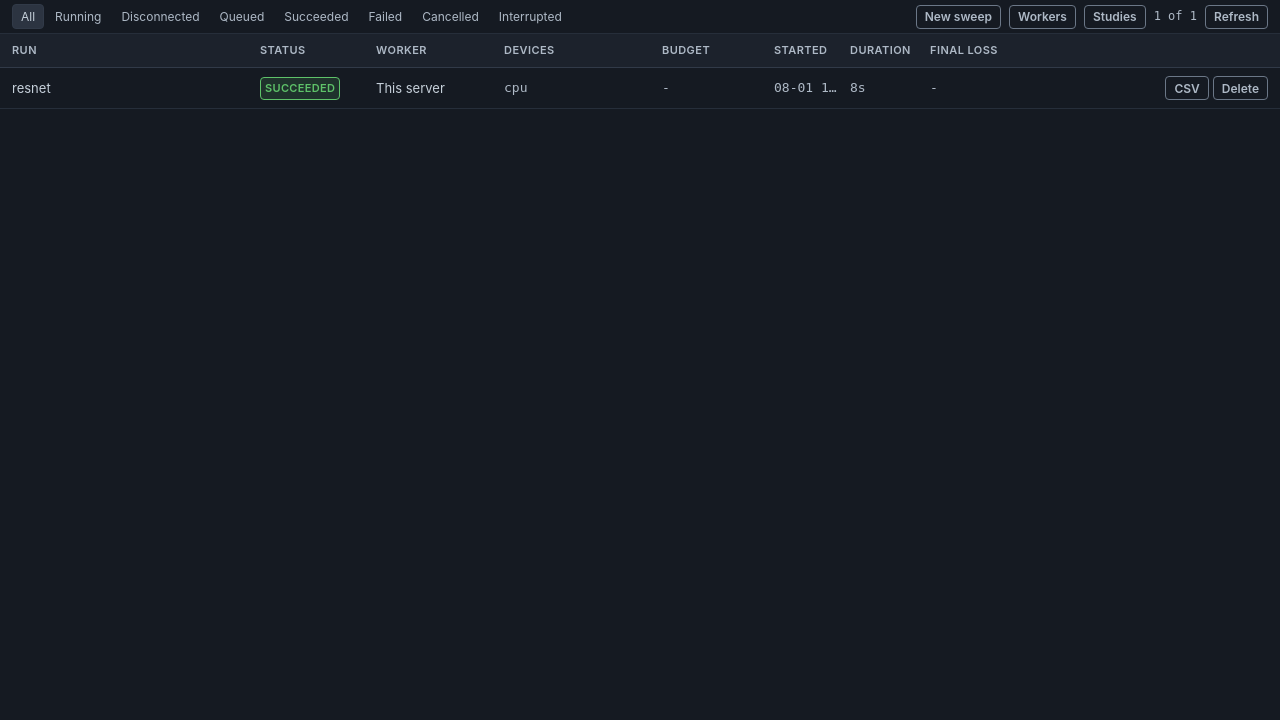
Test case: RunsPanel — detail CSV export › stays enabled when the metrics request failed and left the chart blank
Expected: the text "resnet" is shown, x1=12 y1=80 x2=51 y2=96
Step 1. Click the button with aria-label "resnet — Succeeded" → x=31, y=88, box x1=0 y1=68 x2=1279 y2=109
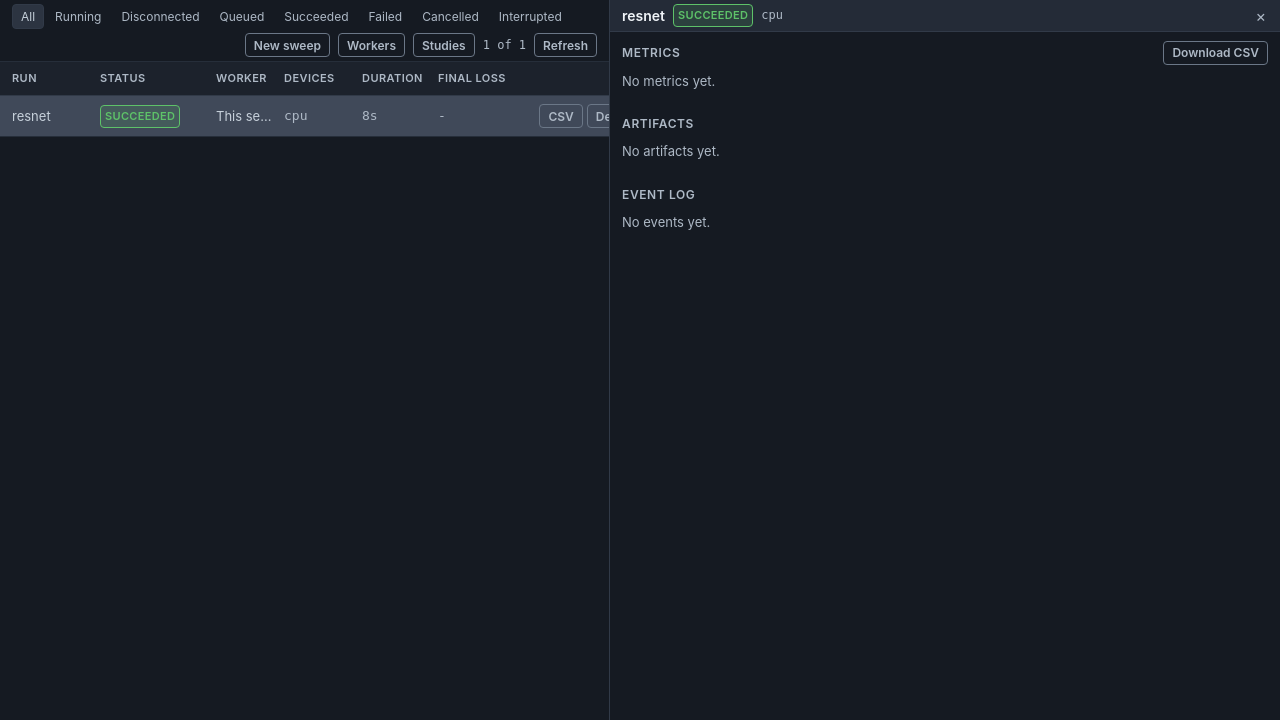
Expected: the text "No metrics yet." is shown, x1=622 y1=73 x2=715 y2=89
Expected: the button with test id "detail-csv" is enabled, x1=1163 y1=40 x2=1268 y2=64
